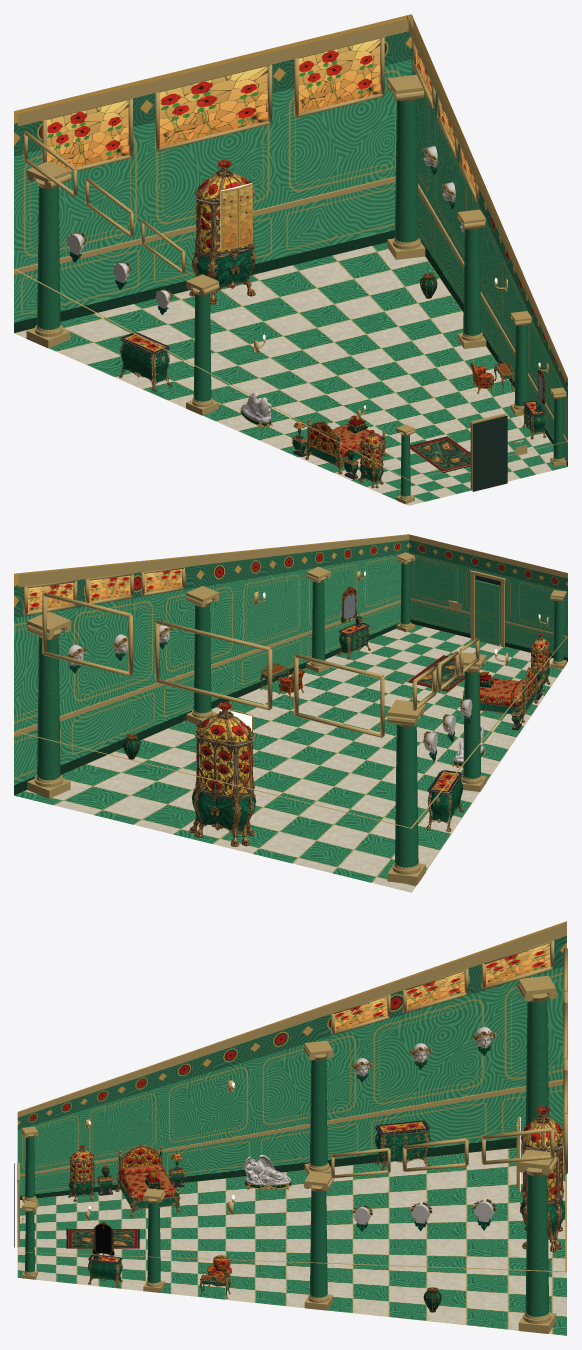
The model's file is rdwe_god_morpheus.glb.
3 views of the same model, one above another, from view 1: azimuth 30°, elevation 25°; view 2: azimuth 150°, elevation 25°; view 3: azimuth 270°, elevation 25° (orthographic).
Visible parts, largest first — view 1: Wall_Malachite, Floor_Marble, Gold_Trim, Poppy_Glass, Column_Malachite, Cabinet_Far, Morpheus_MO-03_dresser, Trim_Dark, Morpheus_MO-05_bed, Morpheus_MO-11_rug, Morpheus_MO-04_tall_cabinet, DoorLeaf_Morpheus_Cabinet_L (+2 smaller); view 2: Floor_Marble, Wall_Malachite, Gold_Trim, Column_Malachite, Cabinet_Far, Poppy_Glass, Morpheus_MO-03_dresser, Morpheus_MO-05_bed, DoorLeaf_Morpheus_In, Morpheus_MO-11_rug, Morpheus_MO-04_tall_cabinet, Morpheus_MO-06_wall_mirror; view 3: Wall_Malachite, Floor_Marble, Gold_Trim, Column_Malachite, Poppy_Glass, Cabinet_Far, Morpheus_MO-03_dresser, Morpheus_MO-05_bed, Morpheus_MO-04_tall_cabinet, Morpheus_P6_sleeping_morpheus, Morpheus_MO-11_rug, Morpheus_MO-06_wall_mirror (+1 smaller).
Part boxes in pixels (box(x1,y1,x2,y2)): Wall_Malachite: box(14, 14, 567, 466); Floor_Marble: box(14, 242, 567, 505); Gold_Trim: box(14, 15, 567, 504); Poppy_Glass: box(47, 38, 475, 193); Column_Malachite: box(37, 99, 563, 496); Cabinet_Far: box(189, 160, 256, 304); Morpheus_MO-03_dresser: box(118, 332, 546, 439); Trim_Dark: box(472, 415, 507, 491); Morpheus_MO-05_bed: box(305, 416, 386, 474); Morpheus_MO-11_rug: box(410, 436, 470, 472); Morpheus_MO-04_tall_cabinet: box(358, 430, 383, 488); DoorLeaf_Morpheus_Cabinet_L: box(220, 188, 237, 250); Floor_Marble: box(14, 624, 567, 892); Wall_Malachite: box(14, 534, 567, 795); Gold_Trim: box(14, 534, 567, 884); Column_Malachite: box(37, 563, 563, 867); Cabinet_Far: box(189, 701, 256, 846); Poppy_Glass: box(28, 569, 181, 611); Morpheus_MO-03_dresser: box(338, 622, 464, 832); Morpheus_MO-05_bed: box(462, 662, 538, 722); DoorLeaf_Morpheus_In: box(475, 580, 500, 646); Morpheus_MO-11_rug: box(407, 655, 484, 691); Morpheus_MO-04_tall_cabinet: box(530, 633, 550, 692); Morpheus_MO-06_wall_mirror: box(340, 586, 356, 622); Wall_Malachite: box(17, 921, 566, 1199); Floor_Marble: box(17, 1147, 566, 1335); Gold_Trim: box(17, 923, 567, 1333); Column_Malachite: box(25, 1000, 549, 1316); Poppy_Glass: box(334, 943, 549, 1031); Cabinet_Far: box(520, 1105, 565, 1252); Morpheus_MO-03_dresser: box(88, 1120, 430, 1287); Morpheus_MO-05_bed: box(115, 1144, 180, 1217); Morpheus_MO-04_tall_cabinet: box(68, 1144, 95, 1201); Morpheus_P6_sleeping_morpheus: box(244, 1155, 291, 1190); Morpheus_MO-11_rug: box(66, 1228, 139, 1248); Morpheus_MO-06_wall_mirror: box(92, 1221, 114, 1257).
Bounding box in the file's own units: 15 × 8 × 18.15.
29 materials, 23 textured.
